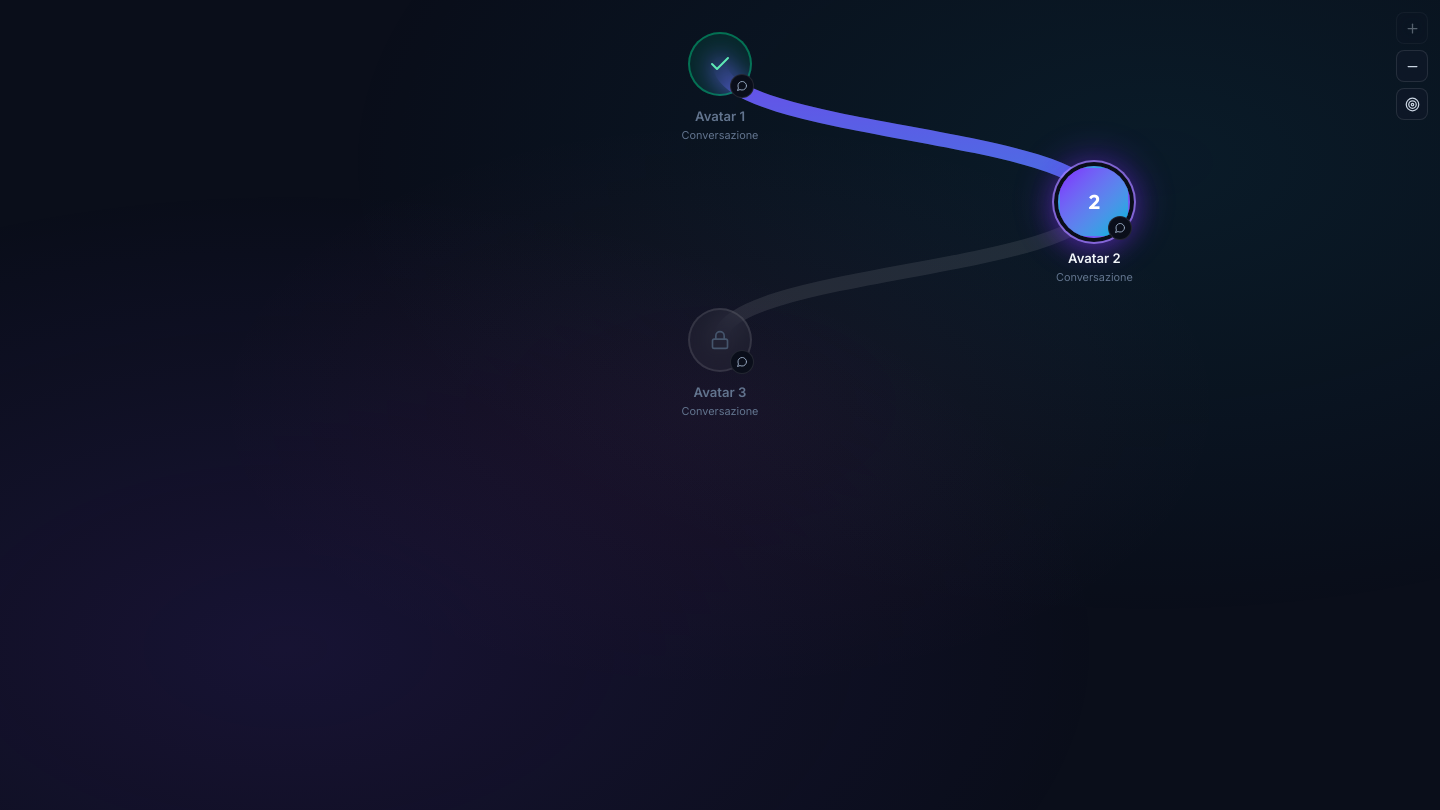
Scenario: PathTrailMap › rimpicciolita accorcia il sentiero senza perdere tappe
What coordinates should you click on to do the following:
click the button named "Rimpicciolisci la Mappa"
I would click on:
 (1412, 66)
Its box is [1396,50,1428,82].
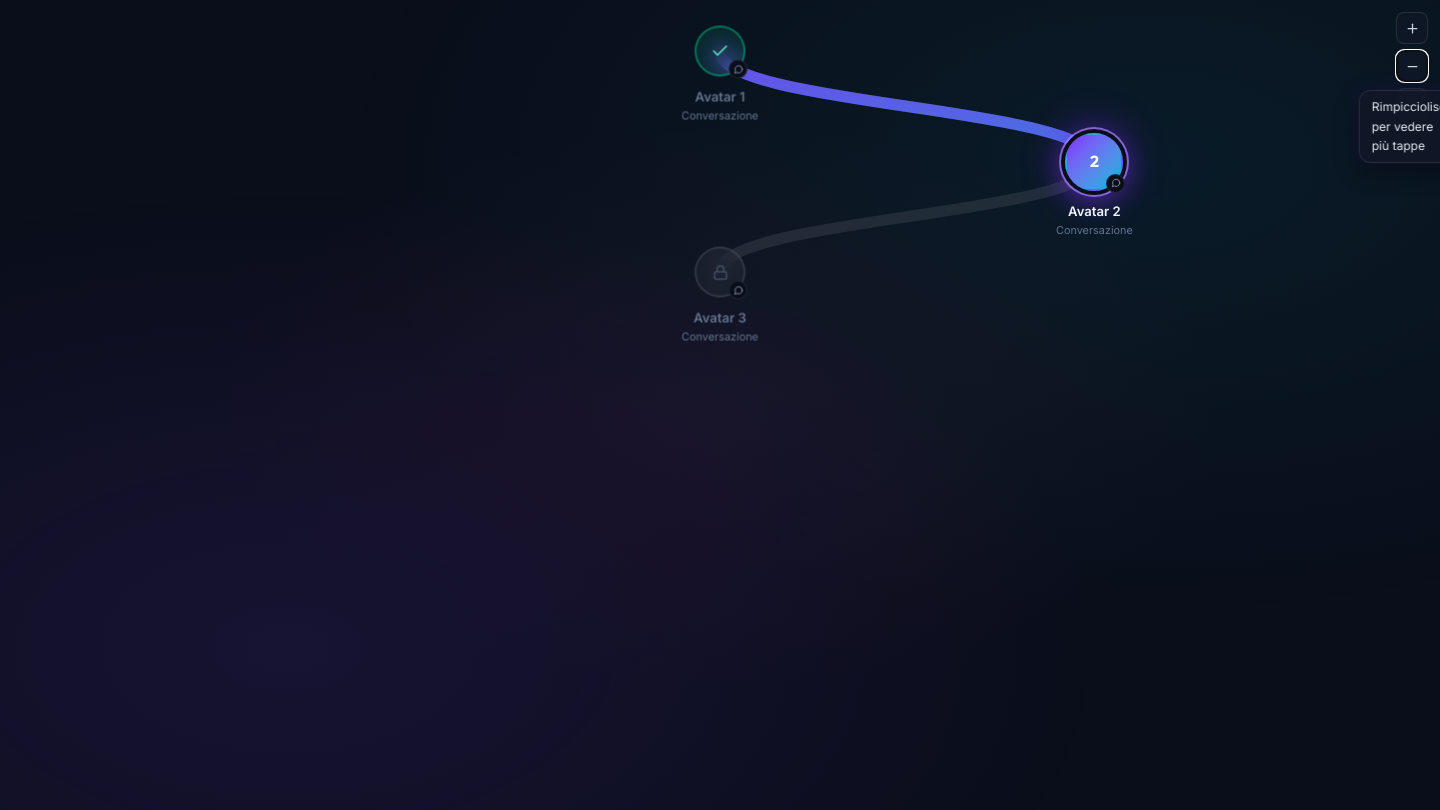
Expected: the number of buttons named "Tappa" is 3, [694,26,746,77]; [1065,133,1123,191]; [694,246,746,298]
Note: Sotto una certa misura i nomi non ci stanno più, e restano nel tooltip
What coordinates should you click on to do the following:
click the button named "Rimpicciolisci la Mappa"
I would click on:
 (1412, 66)
Its box is [1396,50,1428,82].
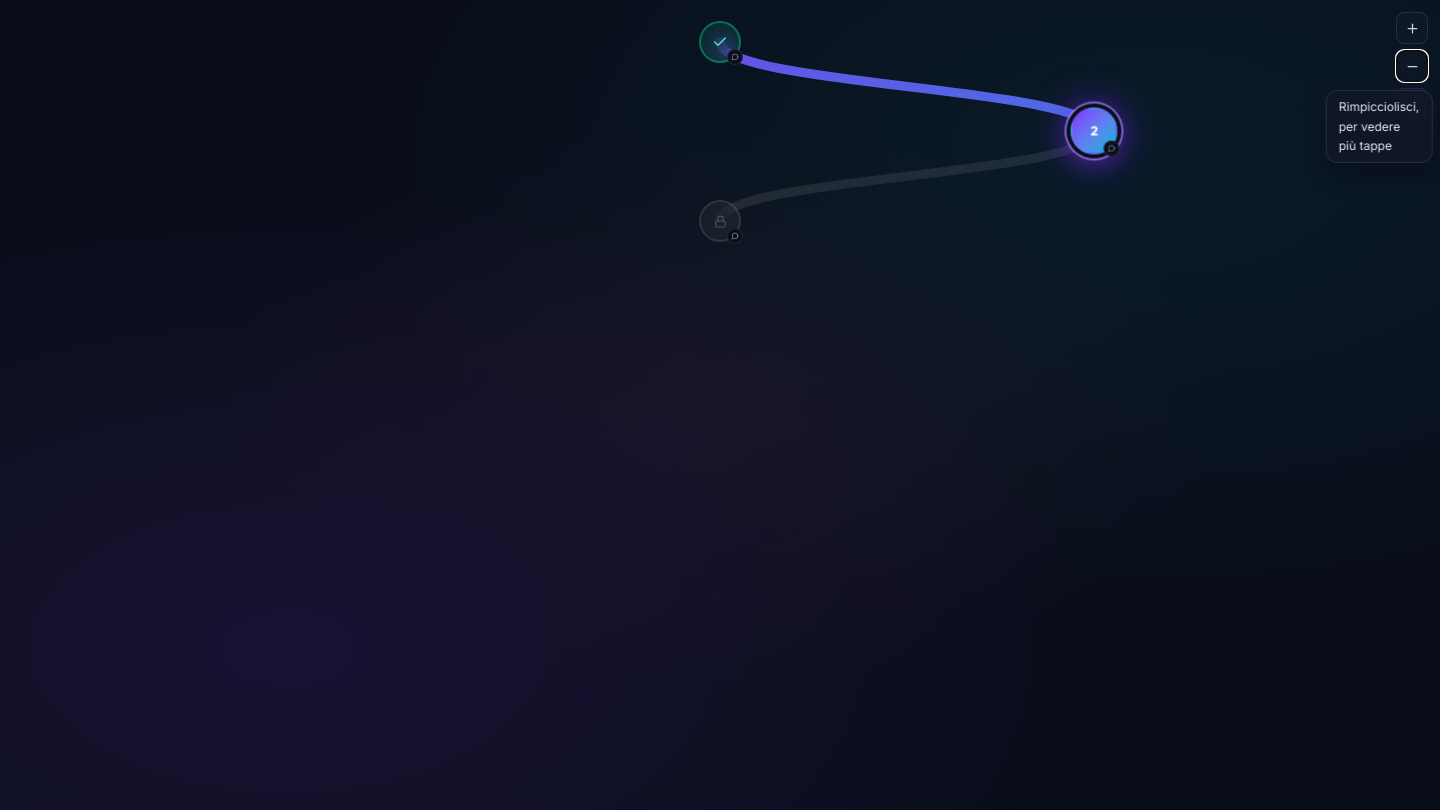
Expected: the number of buttons named "Tappa" is 3, [699,21,741,63]; [1071,108,1118,155]; [699,200,741,242]
Now the text "Avatar 3" is gone
